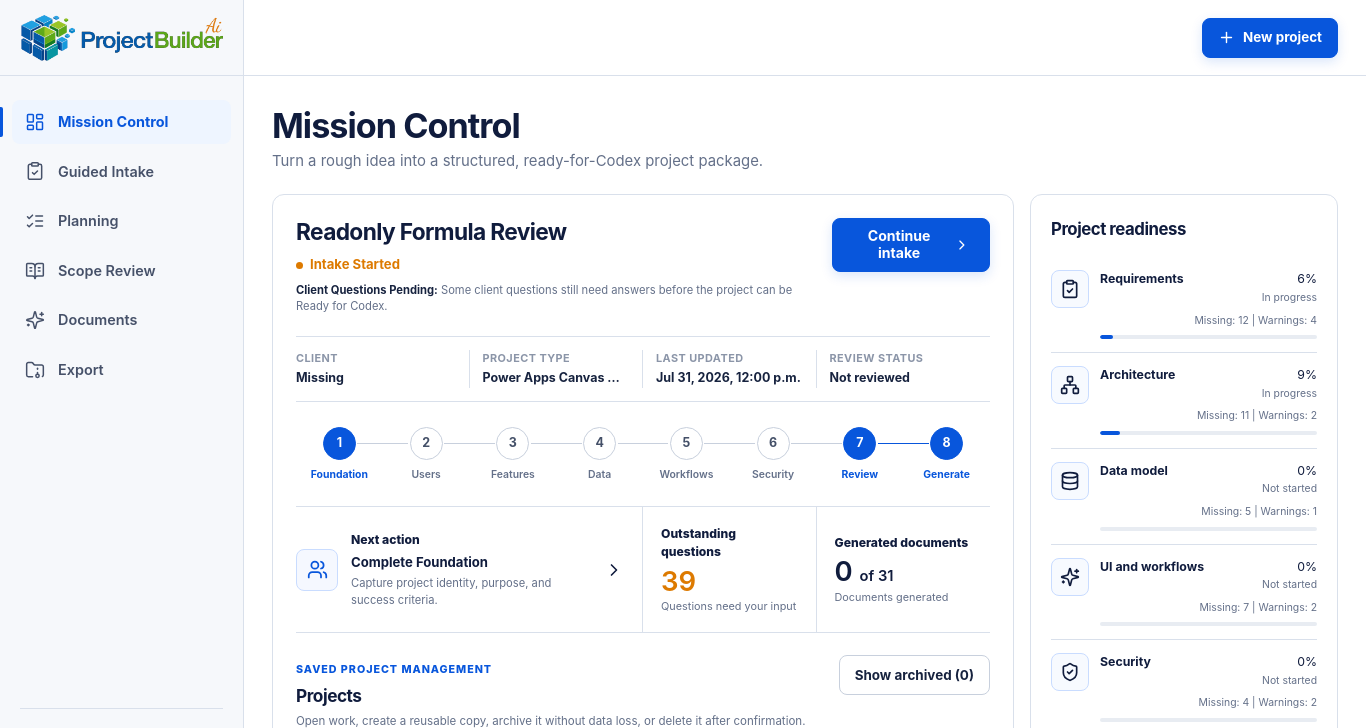
Test case: App - review Generation › keeps hosted formula review controls read-only
Click the button "Scope Review".
click(122, 271)  # box [12,249,231,292]
(page scrolled)
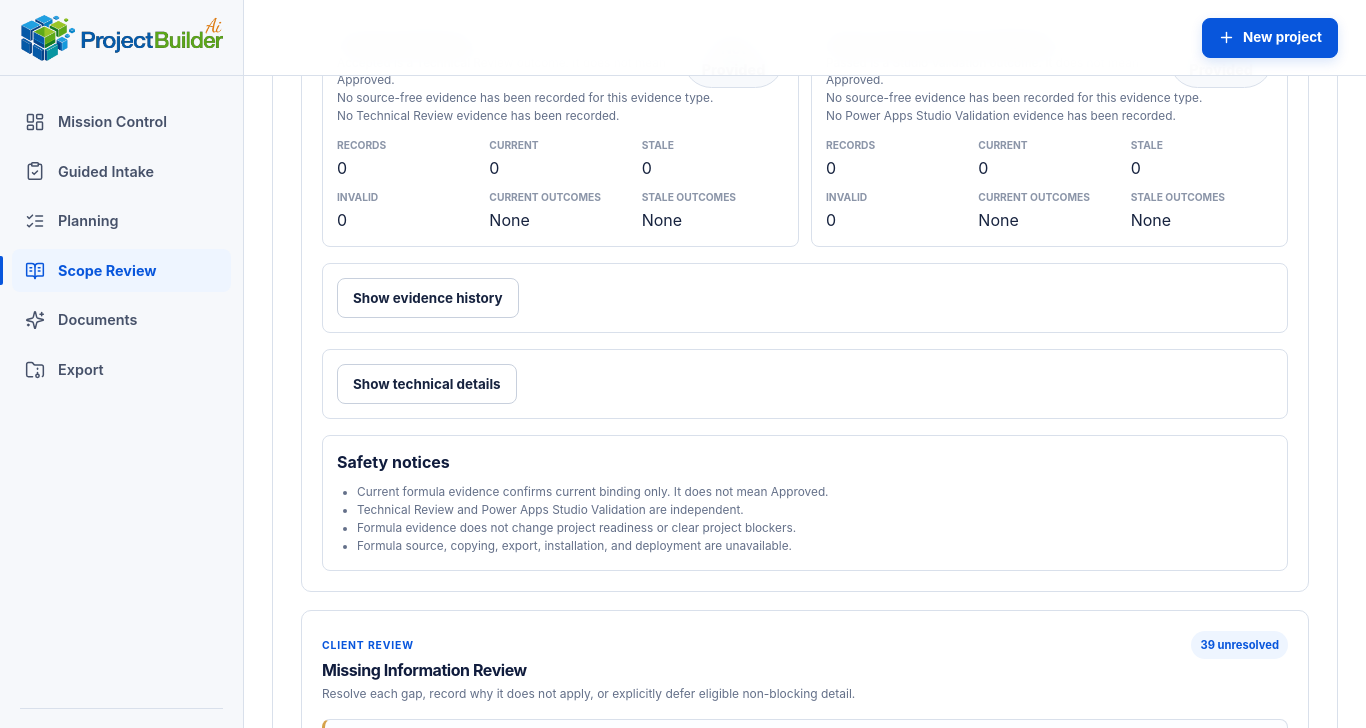
expect the button "Show evidence history" is shown: met, box [337,278,519,318]
expect the button "Show technical details" is shown: met, box [337,364,517,404]
